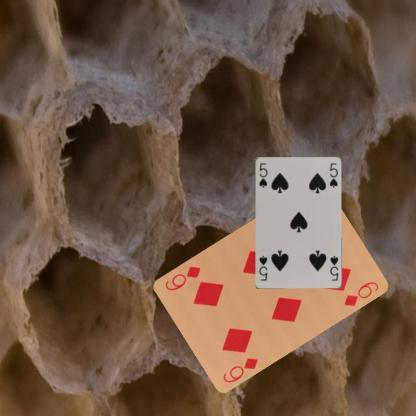5s: (327, 252, 339, 282), (257, 161, 268, 189)
6d: (220, 354, 260, 384)
